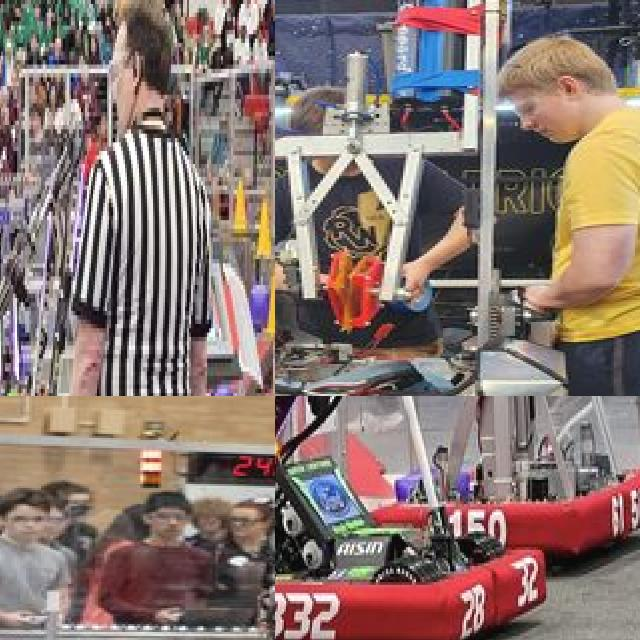FRC-Robots: (275, 0, 640, 396), (275, 396, 564, 637), (418, 396, 640, 558), (4, 77, 106, 396), (179, 493, 275, 640)
